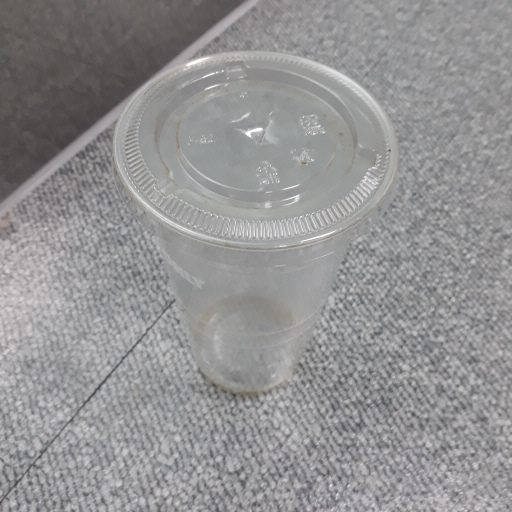Plastic_2: (109, 50, 397, 399)
